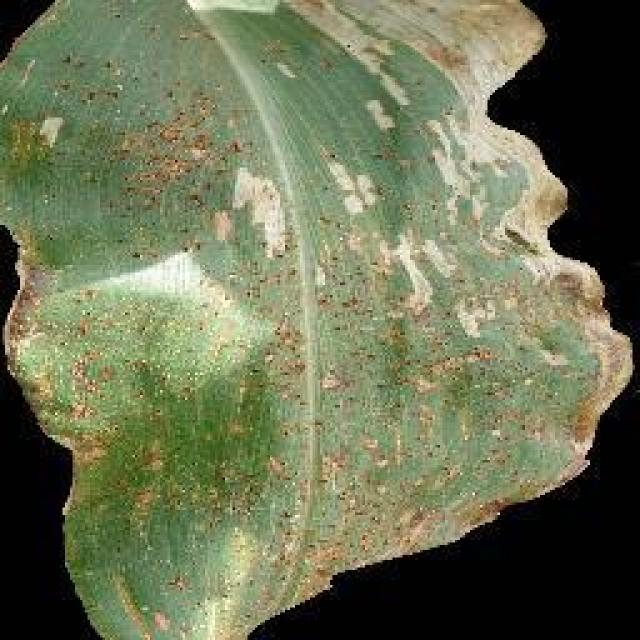Corn Common Rust: (42, 42, 518, 538)
